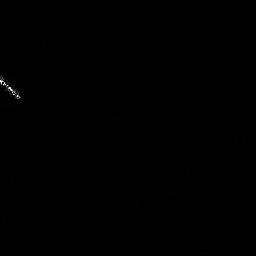ship: (1, 70, 24, 103)
